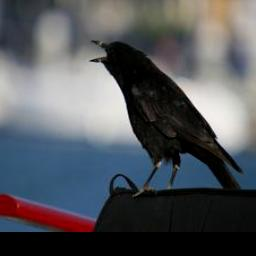Crow: (87, 36, 246, 201)
